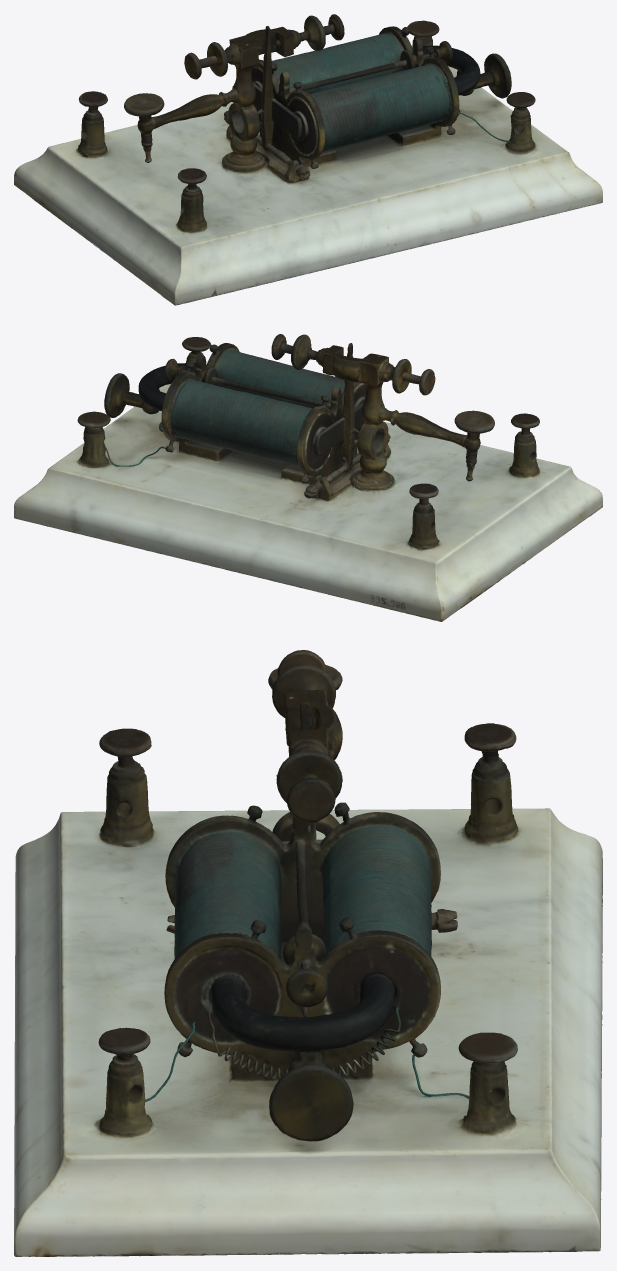
File: chester-relay-4k-abb6f10267.glb
3 renders of one model, top to bottom at view 1: azimuth 30°, elevation 25°; view 2: azimuth 150°, elevation 25°; view 3: azimuth 270°, elevation 25°, orthographic. The views are drawn at different scales.
Size of the model in its own units: 8.32 by 3.36 by 5.44.
Materials: 1 (1 with a texture image).
